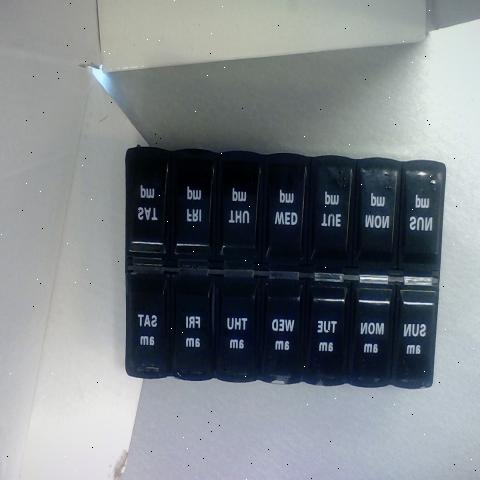FRI-am: (175, 282, 211, 376)
FRI-pm: (173, 153, 211, 261)
MON-am: (350, 287, 393, 391)
MON-pm: (358, 163, 398, 274)
SAT-am: (129, 274, 168, 371)
SAT-pm: (131, 150, 169, 260)
SUN-am: (398, 290, 432, 388)
SUN-pm: (403, 167, 440, 278)
THU-am: (214, 278, 255, 373)
THU-pm: (217, 155, 257, 263)
TUE-am: (310, 284, 350, 387)
TUE-pm: (308, 162, 350, 272)
WED-am: (259, 281, 301, 384)
WED-pm: (262, 160, 304, 273)
